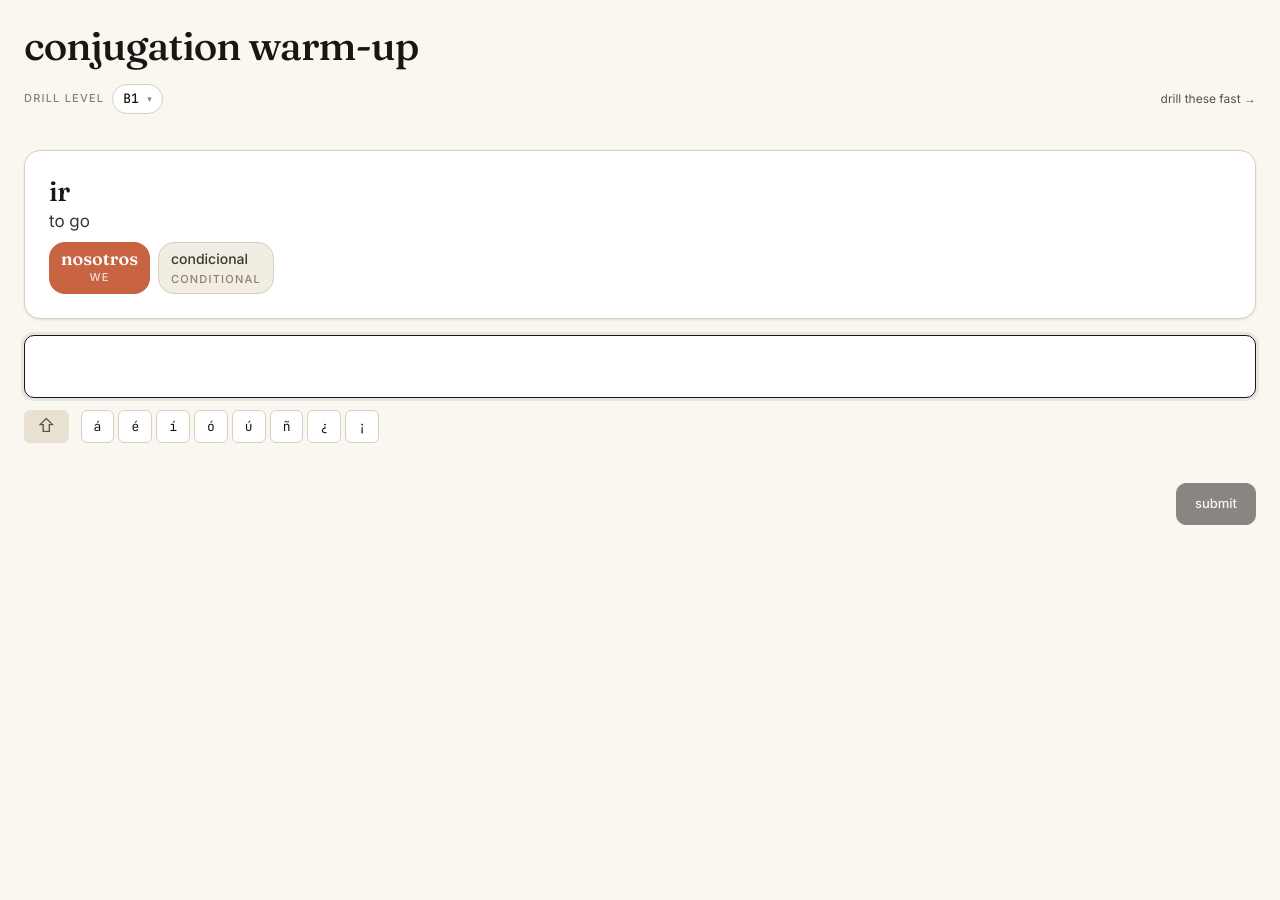
ConjugationPage › submits the typed answer WITHOUT a sessionId and shows feedback
Type "iríamos" into the field at (640, 366), box [24,334,1256,398]
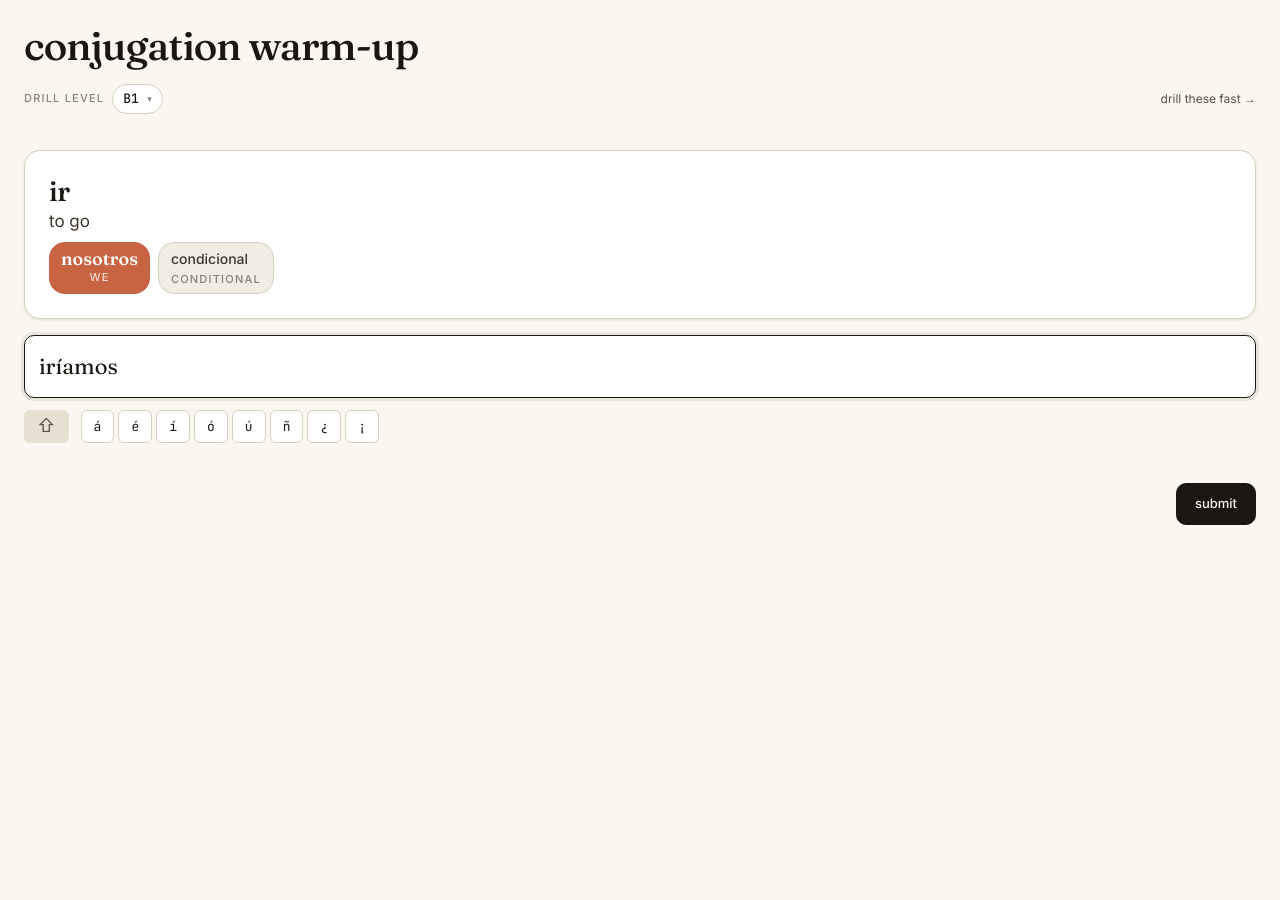
Click the button "submit" at (1216, 504), box [1176,483,1256,524]
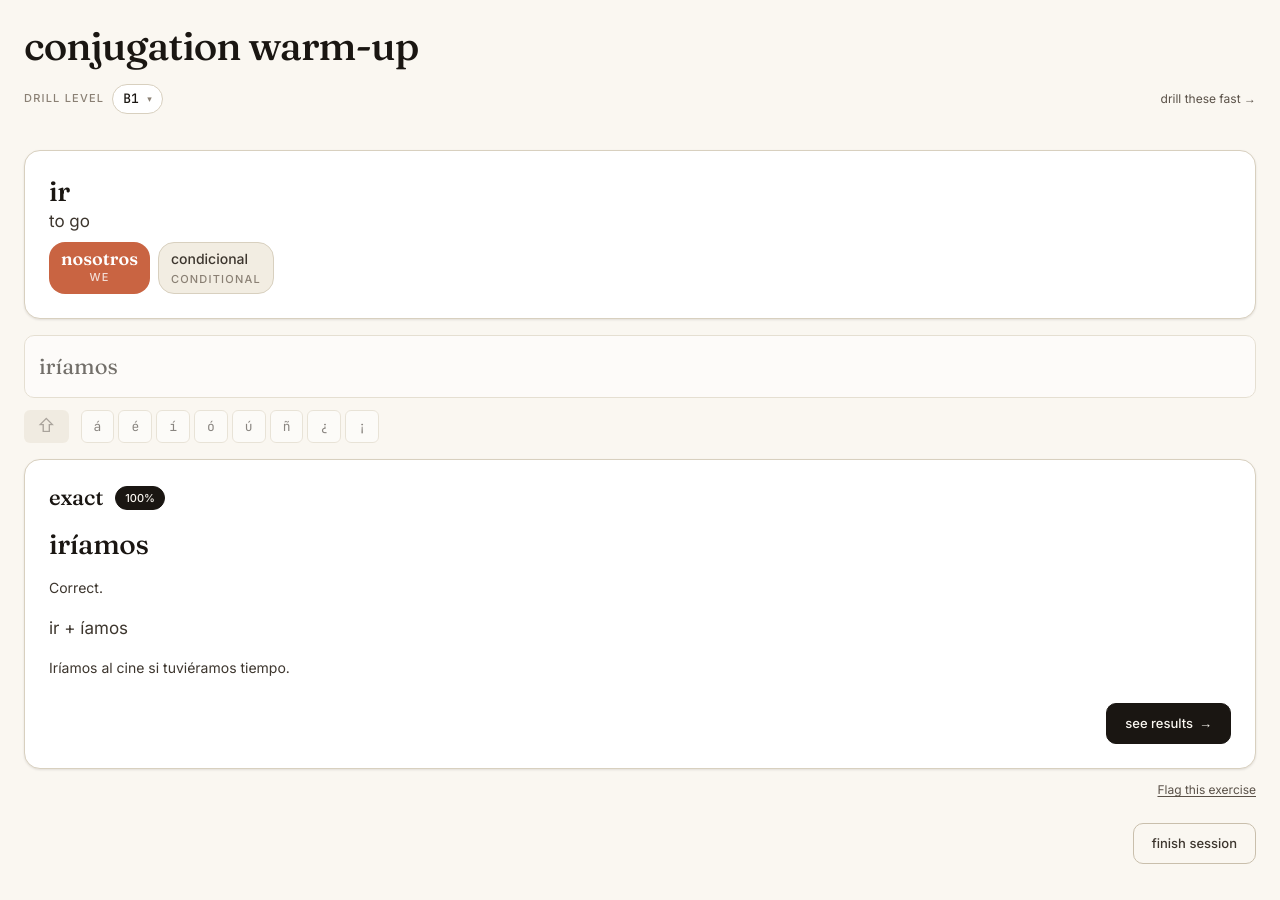
Expected: the text "ir + íamos" is shown, [49,618,128,638]
